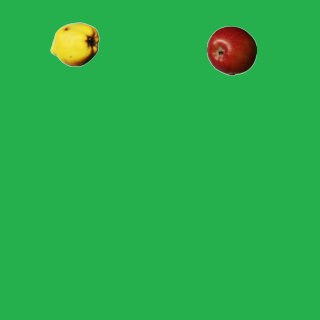Apple Braeburn: (206, 25, 256, 75)
Quince: (49, 19, 99, 69)
